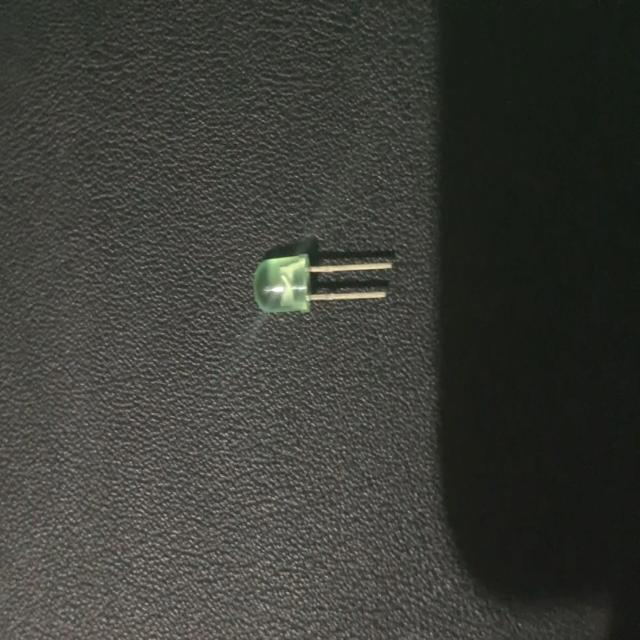LED: (252, 246, 395, 320)
